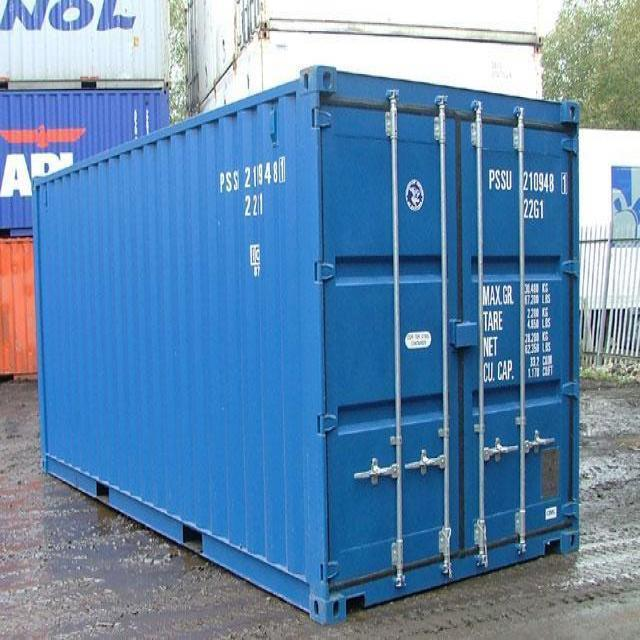ISO: (242, 188, 272, 218), (523, 197, 545, 221)
container_number: (488, 165, 574, 192), (217, 162, 290, 186)
